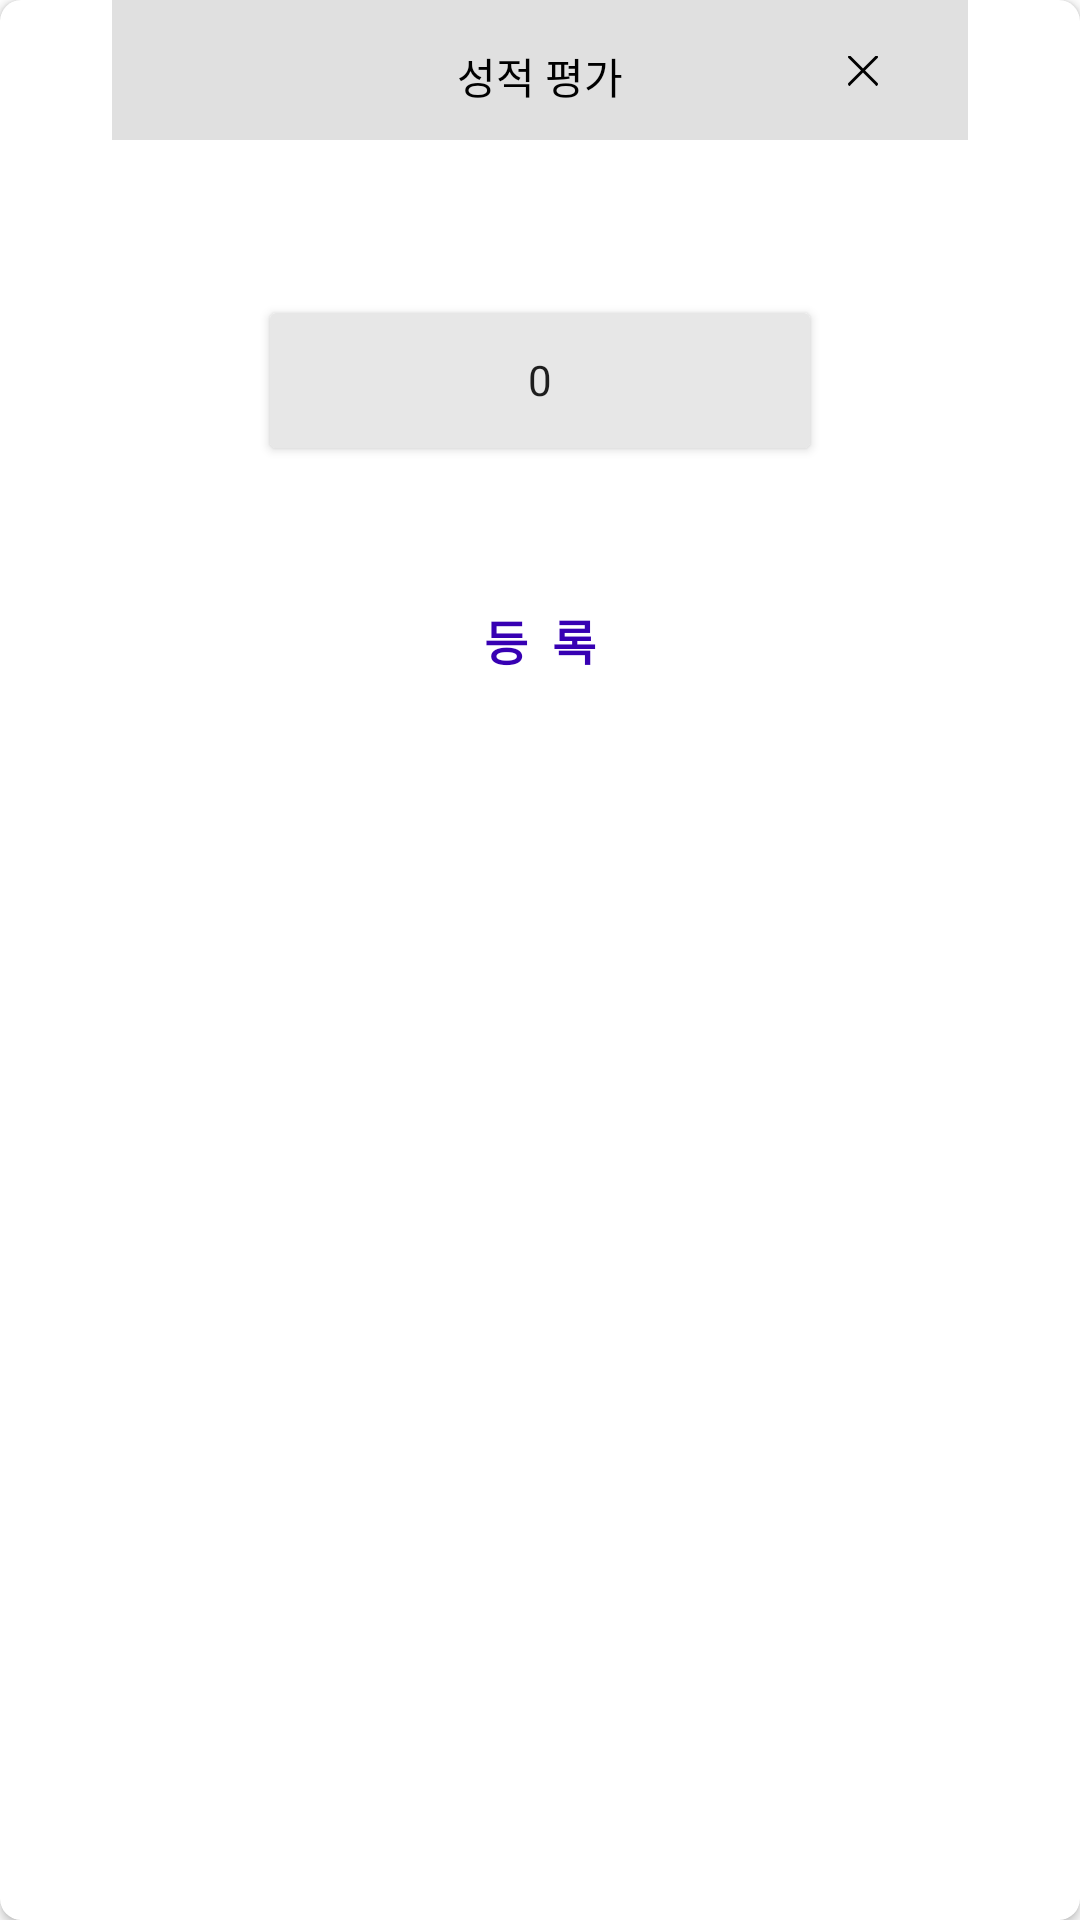

Point at icon controls on the screen. Image size 1080 x 1920, points as [x,y].
close: [863,71]
